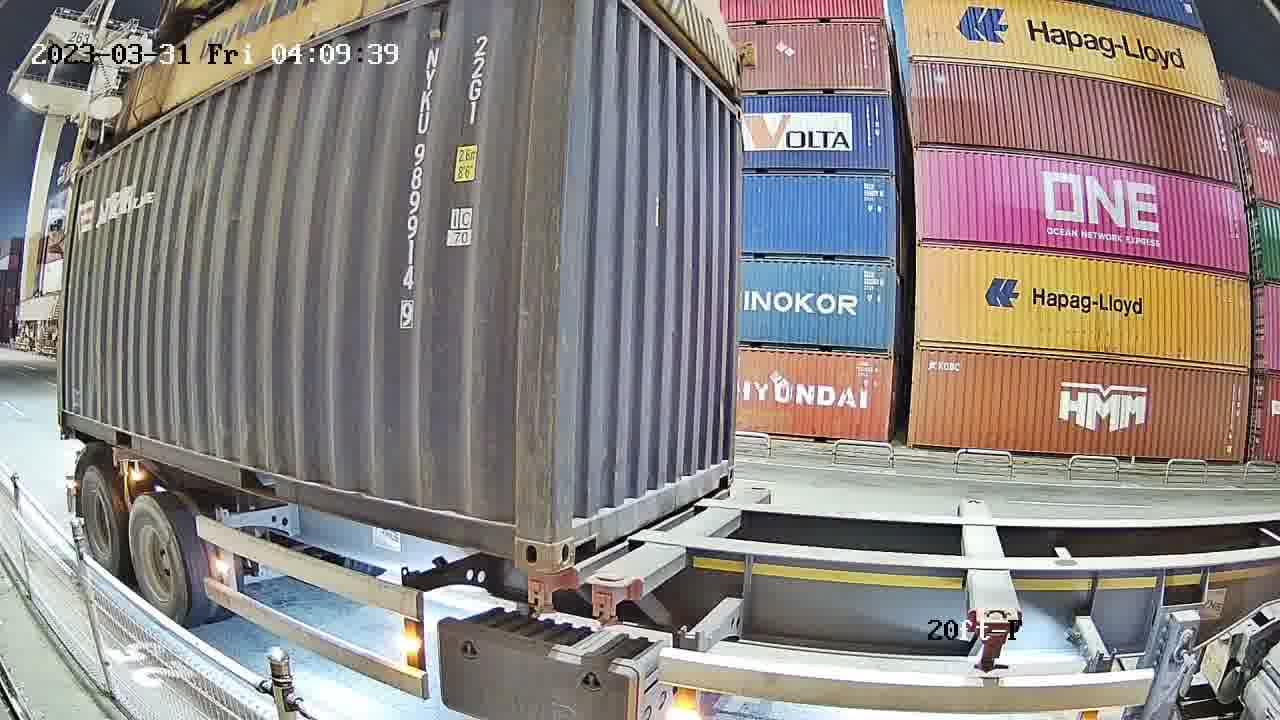Chassis: (584, 488, 771, 600)
Cone: (591, 575, 634, 620), (526, 573, 568, 612)
Hole_L: (552, 492, 601, 574)
Hole_R: (480, 495, 552, 572), (705, 445, 736, 492)
Tire: (128, 495, 192, 625), (79, 470, 123, 575)
